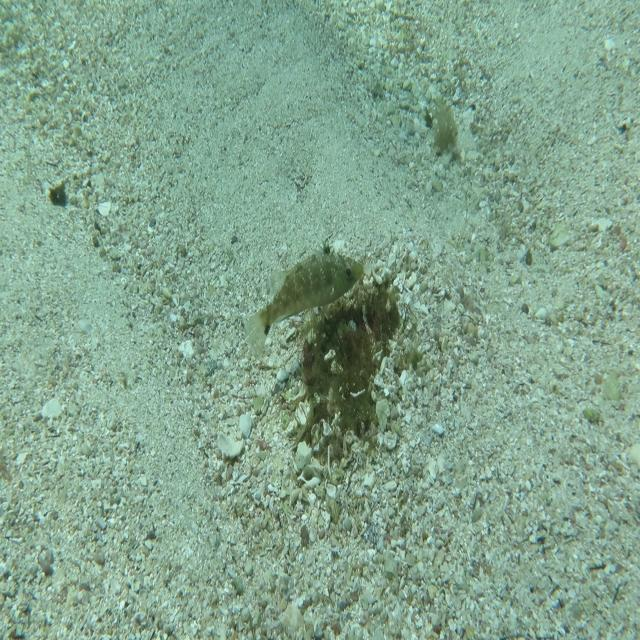FAN: (243, 235, 365, 361)
core_nest: (353, 301, 393, 339)
nest: (284, 260, 414, 472)
vegetation: (423, 101, 459, 155), (50, 183, 68, 209)
